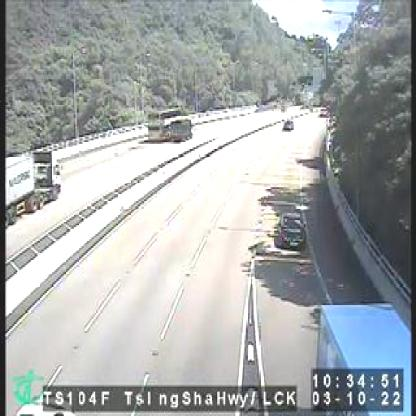Bus: (146, 106, 182, 142)
Car: (276, 212, 306, 249), (165, 118, 191, 139), (281, 120, 295, 128)
Truck: (5, 144, 61, 229)
